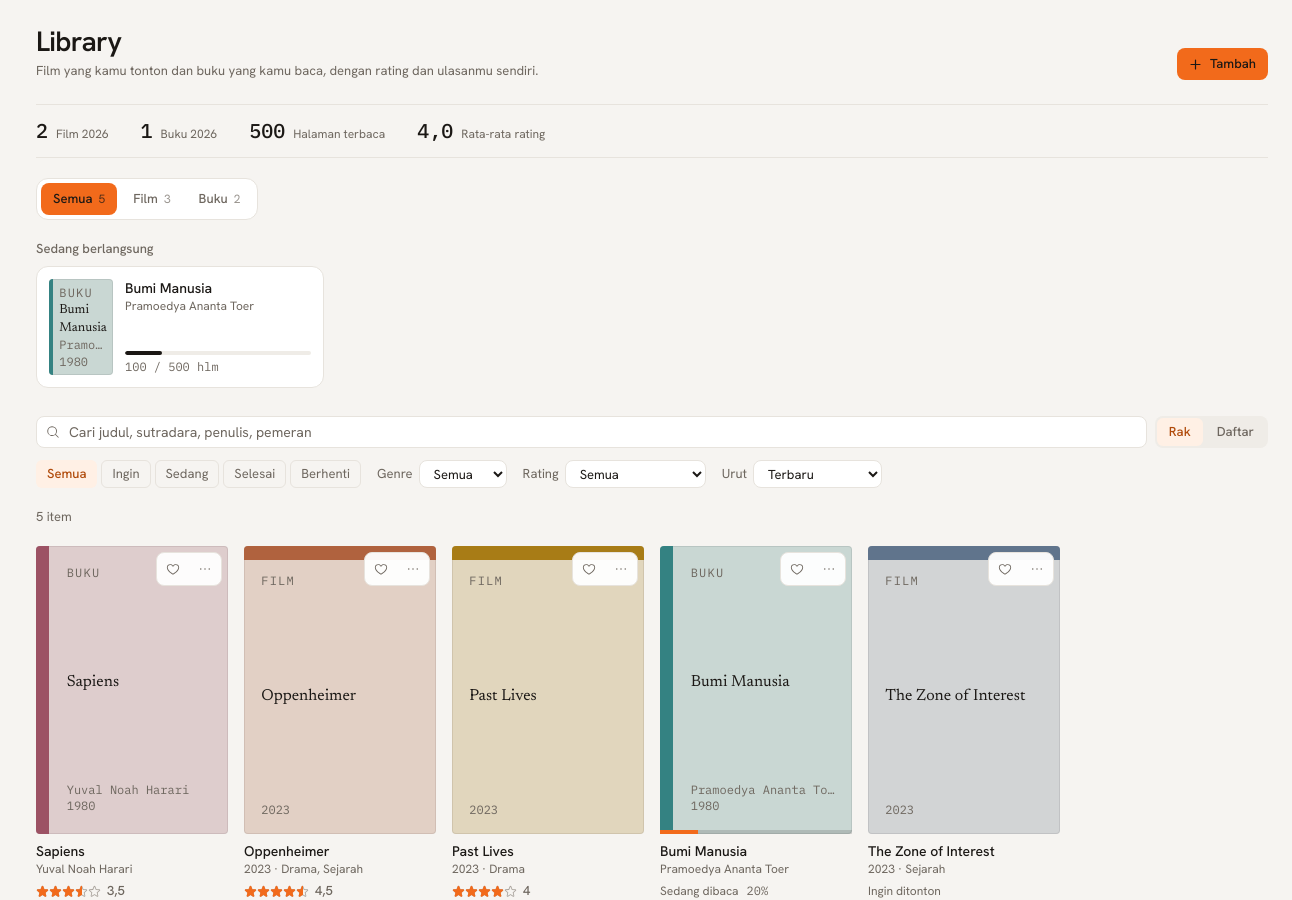
Test: the shelf › puts what is in progress on top, and takes it away while a filter is on
Check: the heading "Bumi Manusia" below "Sedang berlangsung" is shown, box [125,279,212,297]
Check: the text "100 / 500 hlm" is shown, box [125,359,219,374]
Type "past" into the search field at coordinates (591, 432), box [36,416,1147,448]
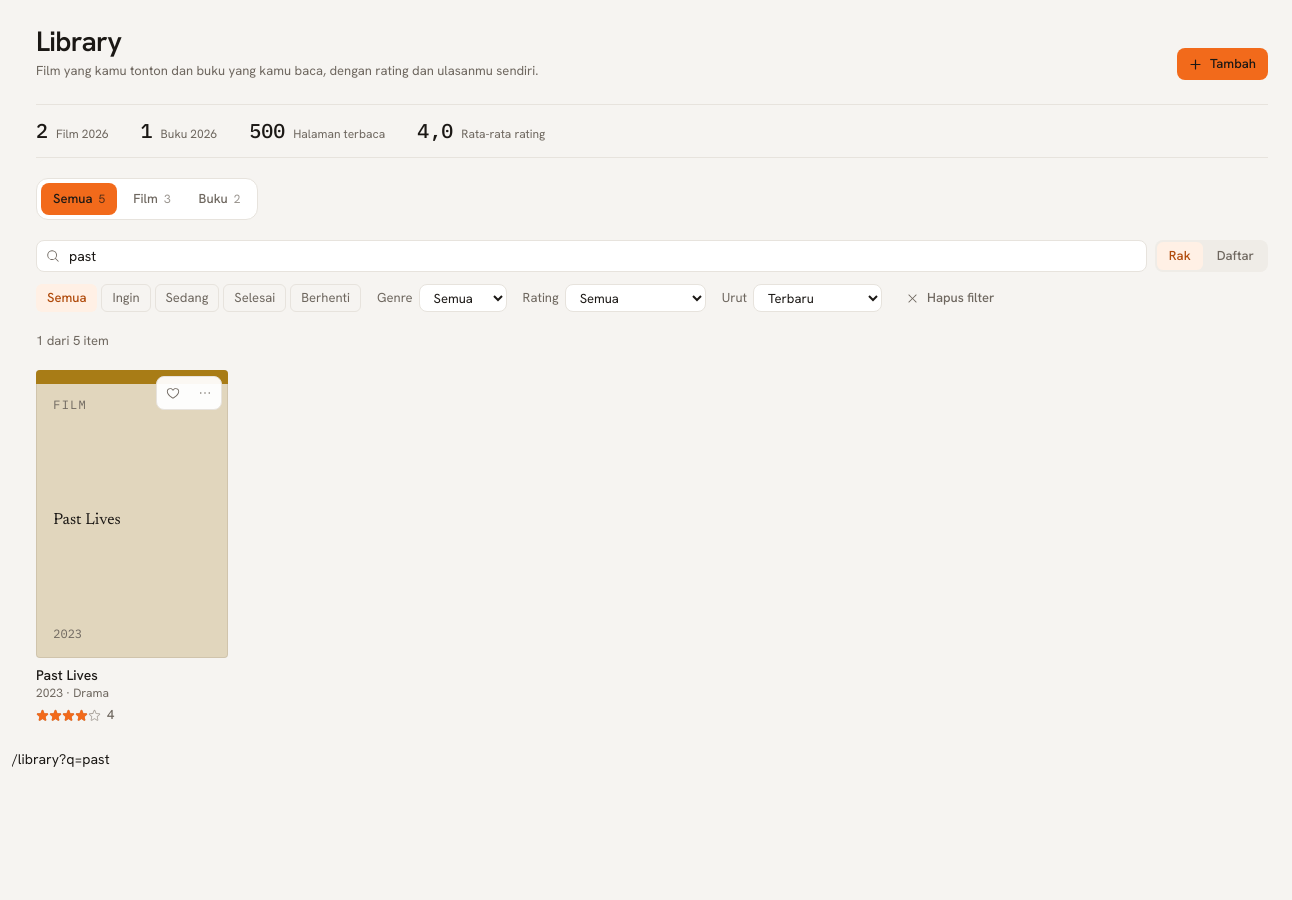
Check: the heading "Sedang berlangsung" is gone
